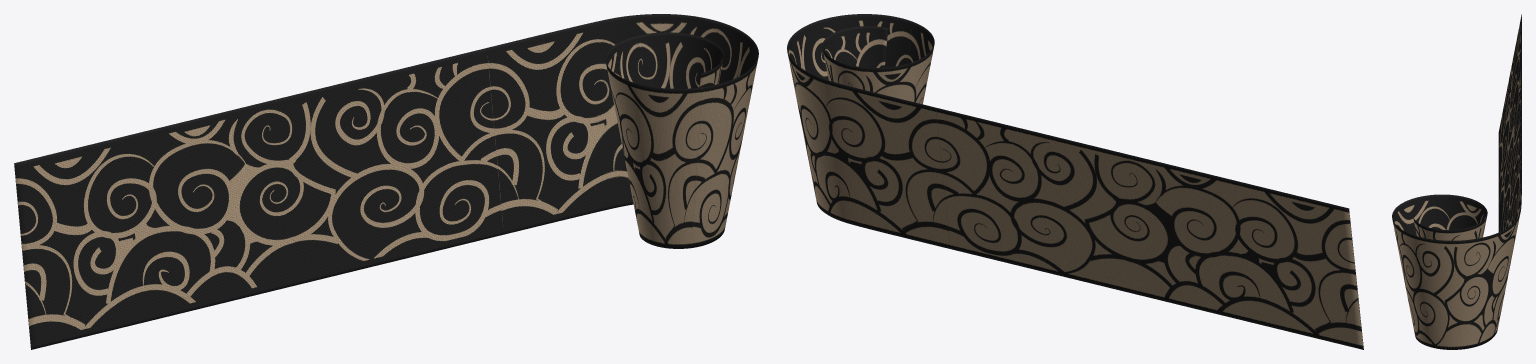
The model's file is WovenElastic.gltf.
3 views of the same model, side by side, from view 1: azimuth 30°, elevation 25°; view 2: azimuth 150°, elevation 25°; view 3: azimuth 270°, elevation 25° (orthographic). The views are drawn at different scales.
Visible parts, largest first — view 1: WovenElastic; view 2: WovenElastic; view 3: WovenElastic.
Boxes of the visible parts, x1=… form: WovenElastic: x1=14, y1=14, x2=758, y2=349; WovenElastic: x1=787, y1=14, x2=1363, y2=349; WovenElastic: x1=1392, y1=14, x2=1521, y2=349.
Bounding box in the file's own units: 2.32 × 0.5662 × 0.5608.
Materials: 2 (2 with a texture image).
